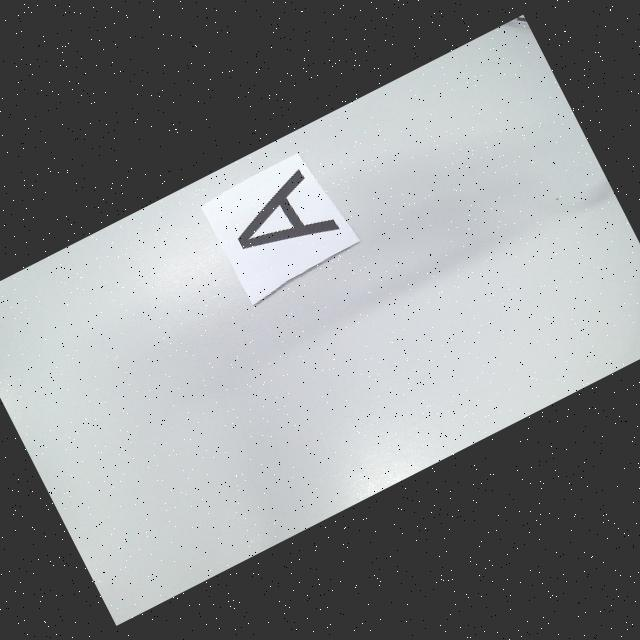FAKE: (222, 164, 341, 273)
